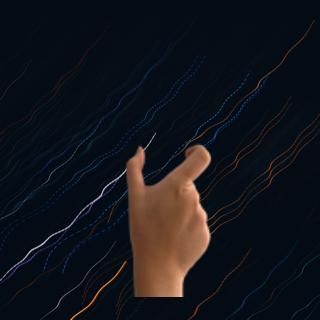HATE: (118, 139, 216, 285)
